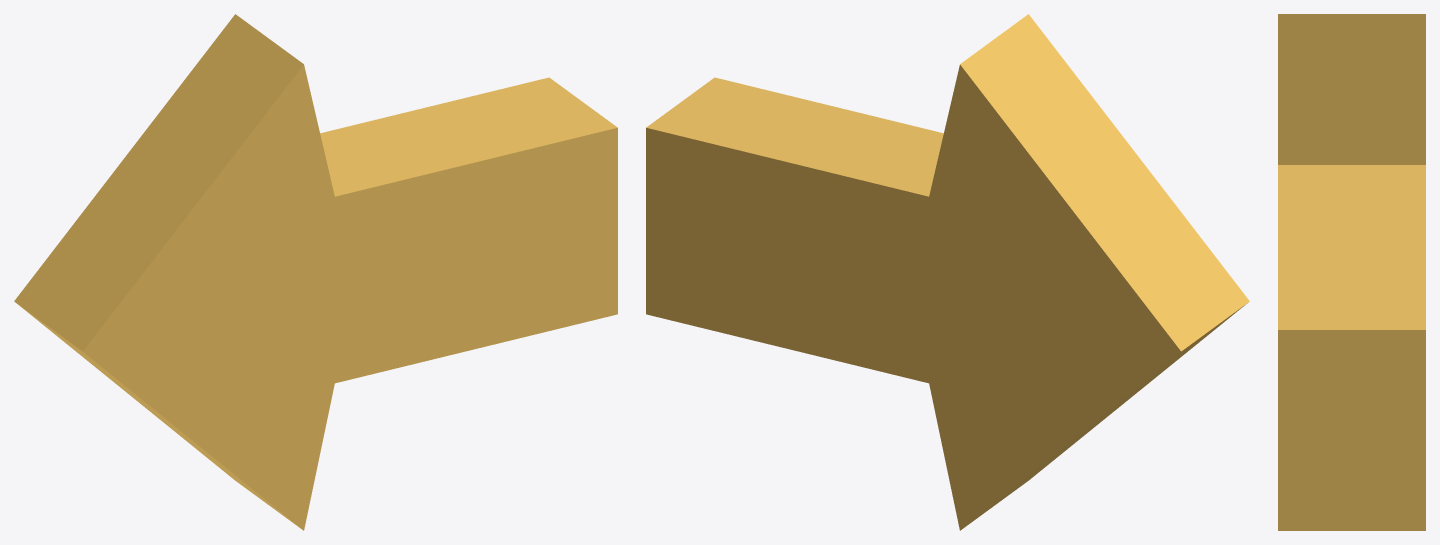
File: pointer_left.glb
The picture shows the model from 3 angles, left to right: view 1: azimuth 30°, elevation 25°; view 2: azimuth 150°, elevation 25°; view 3: azimuth 270°, elevation 25°; orthographic projection. The views are drawn at different scales.
Visible parts, largest first — view 1: model; view 2: model; view 3: model.
Part boxes in pixels (bbox=[...]): model: bbox=[14, 14, 617, 530]; model: bbox=[646, 14, 1249, 530]; model: bbox=[1278, 14, 1425, 530].
Bounding box in the file's own units: 0.9 × 0.75 × 0.2.
